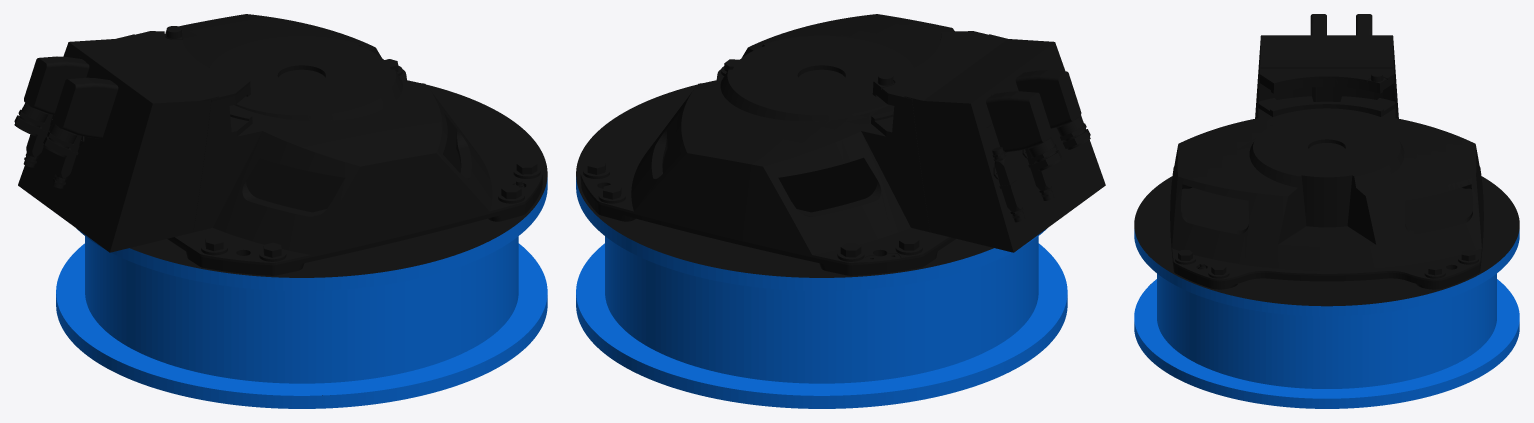
Rendered from KR210_3100_ultra_socket.dae.
The picture shows the model from 3 angles, left to right: view 1: azimuth 30°, elevation 25°; view 2: azimuth 150°, elevation 25°; view 3: azimuth 270°, elevation 25°; orthographic projection. The views are drawn at different scales.
Visible parts, largest first — view 1: KR 210 3100 ultra socket; view 2: KR 210 3100 ultra socket; view 3: KR 210 3100 ultra socket.
Part boxes in pixels (bbox=[...]): KR 210 3100 ultra socket: bbox=[14, 14, 547, 408]; KR 210 3100 ultra socket: bbox=[576, 14, 1105, 408]; KR 210 3100 ultra socket: bbox=[1134, 14, 1519, 408].
Size of the model in its own units: 1.14 by 1.02 by 0.6517.
